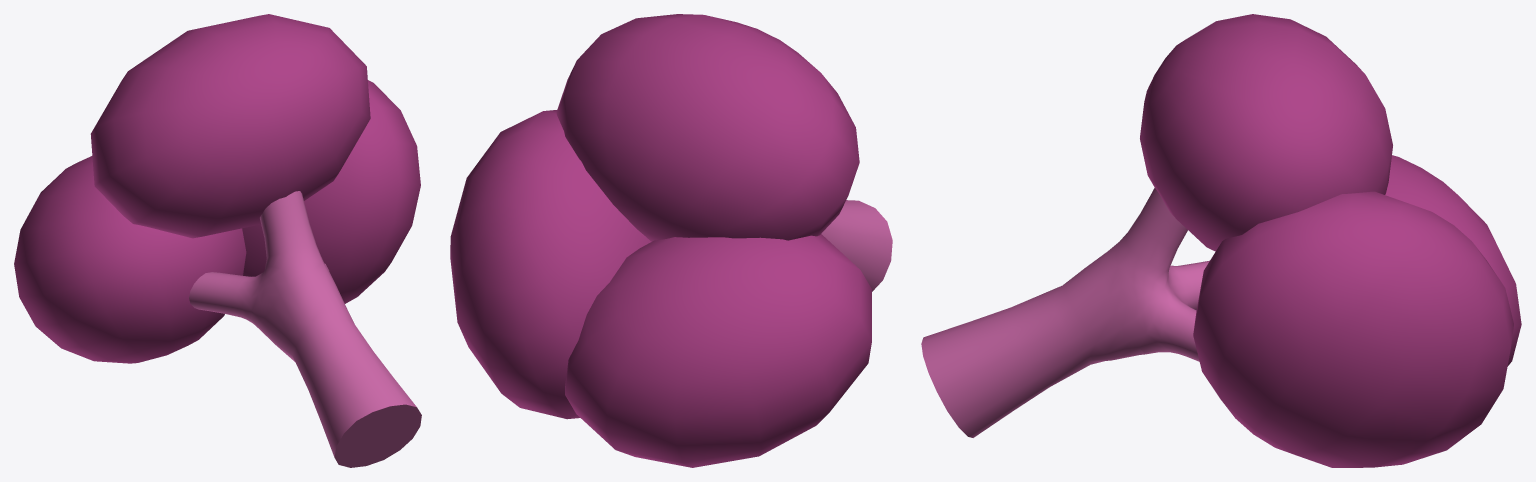
The model's file is Cauliflower Violet.fbx.
3 views of the same model, side by side, from view 1: azimuth 30°, elevation 25°; view 2: azimuth 150°, elevation 25°; view 3: azimuth 270°, elevation 25° (orthographic). The views are drawn at different scales.
Visible parts, largest first — view 1: Cauliflower Violet; view 2: Cauliflower Violet; view 3: Cauliflower Violet.
Boxes of the visible parts, x1,y1,x2,y2 form: Cauliflower Violet: (14,14,421,467); Cauliflower Violet: (450,14,892,467); Cauliflower Violet: (921,14,1521,467).
Size of the model in its own units: 0.1493 by 0.1353 by 0.1856.
